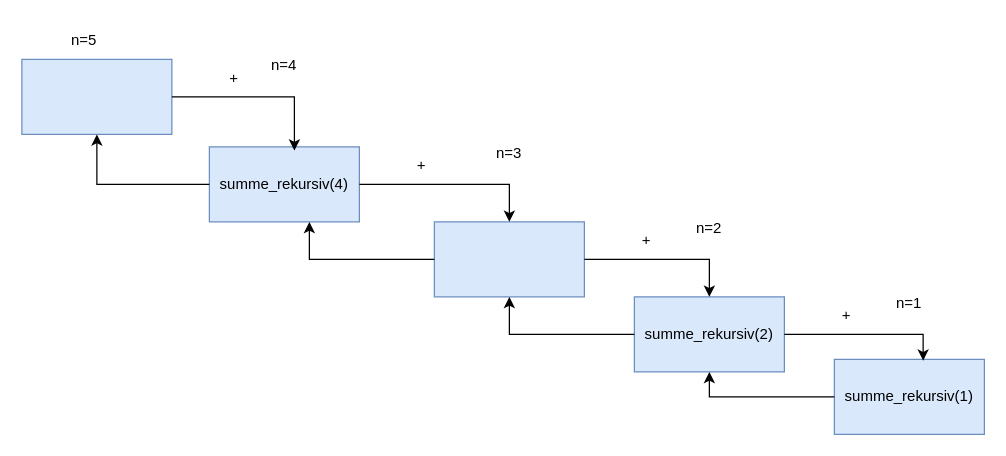
This 1006x456 diagram has some shape labels left out. Each missing label, with the box of its shape:
summe_rekursiv(3): (433, 221, 584, 297)
summe_rekursiv(5): (21, 58, 172, 134)
